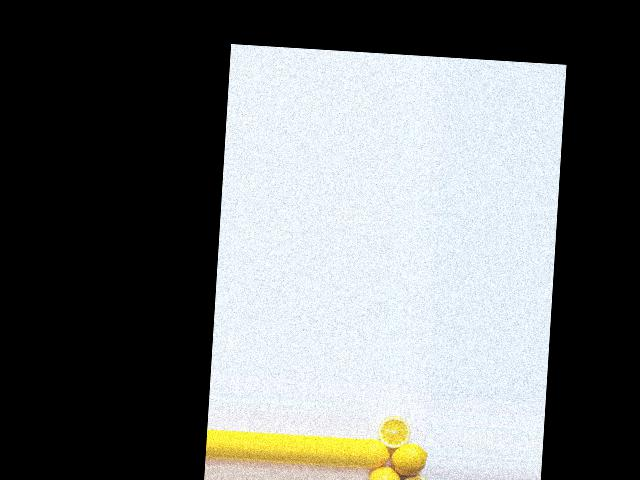lemon: (366, 439, 390, 467)
